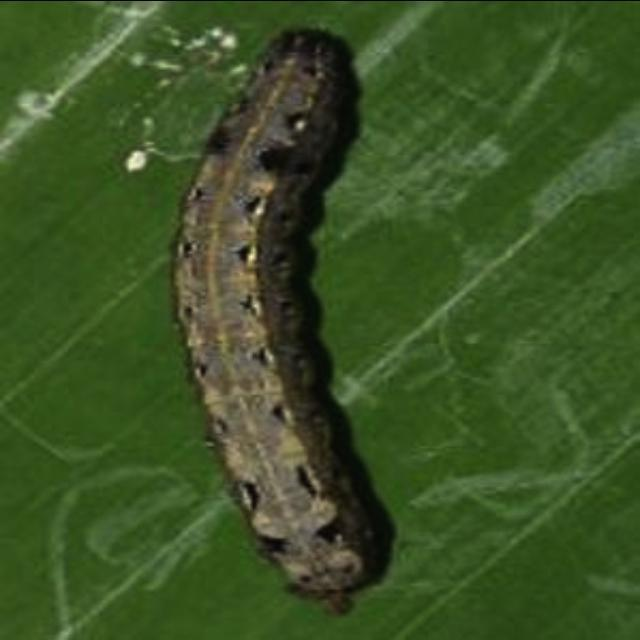Tobacco cutworm: (141, 23, 485, 639)
